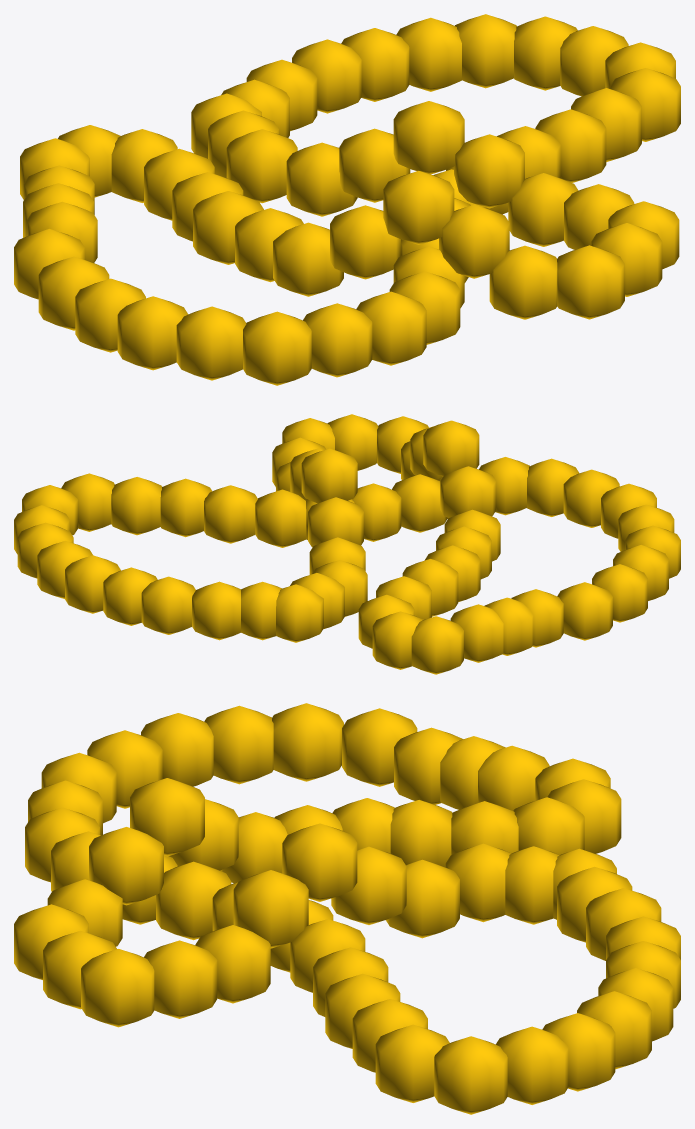
File: goldchain.fbx
3 renders of one model, top to bottom at view 1: azimuth 30°, elevation 25°; view 2: azimuth 150°, elevation 25°; view 3: azimuth 270°, elevation 25°, orthographic. The views are drawn at different scales.
Visible parts, largest first — view 1: chain; view 2: chain; view 3: chain.
Boxes of the visible parts, left/top/right/bottom form: chain: left=14, top=14, right=680, bottom=385; chain: left=14, top=414, right=680, bottom=674; chain: left=14, top=703, right=680, bottom=1114.
Size of the model in its own units: 7.1 by 1.35 by 5.49.
Materials: 1 (1 with a texture image).
